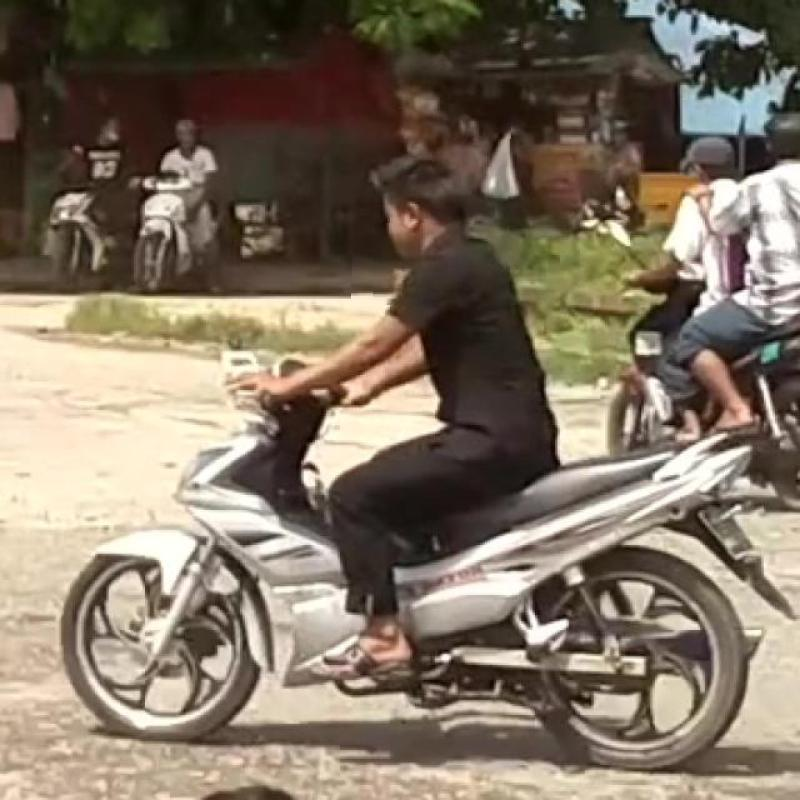nohelmet: (352, 109, 510, 308)
